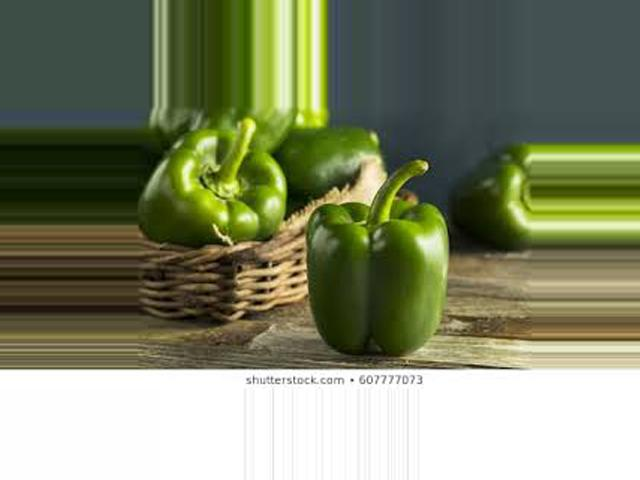bell_pepper: (475, 144, 533, 232)
